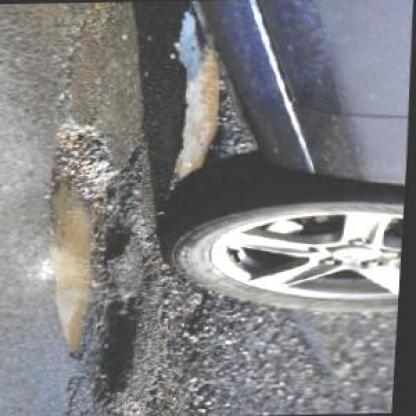pothole: (33, 118, 157, 402)
